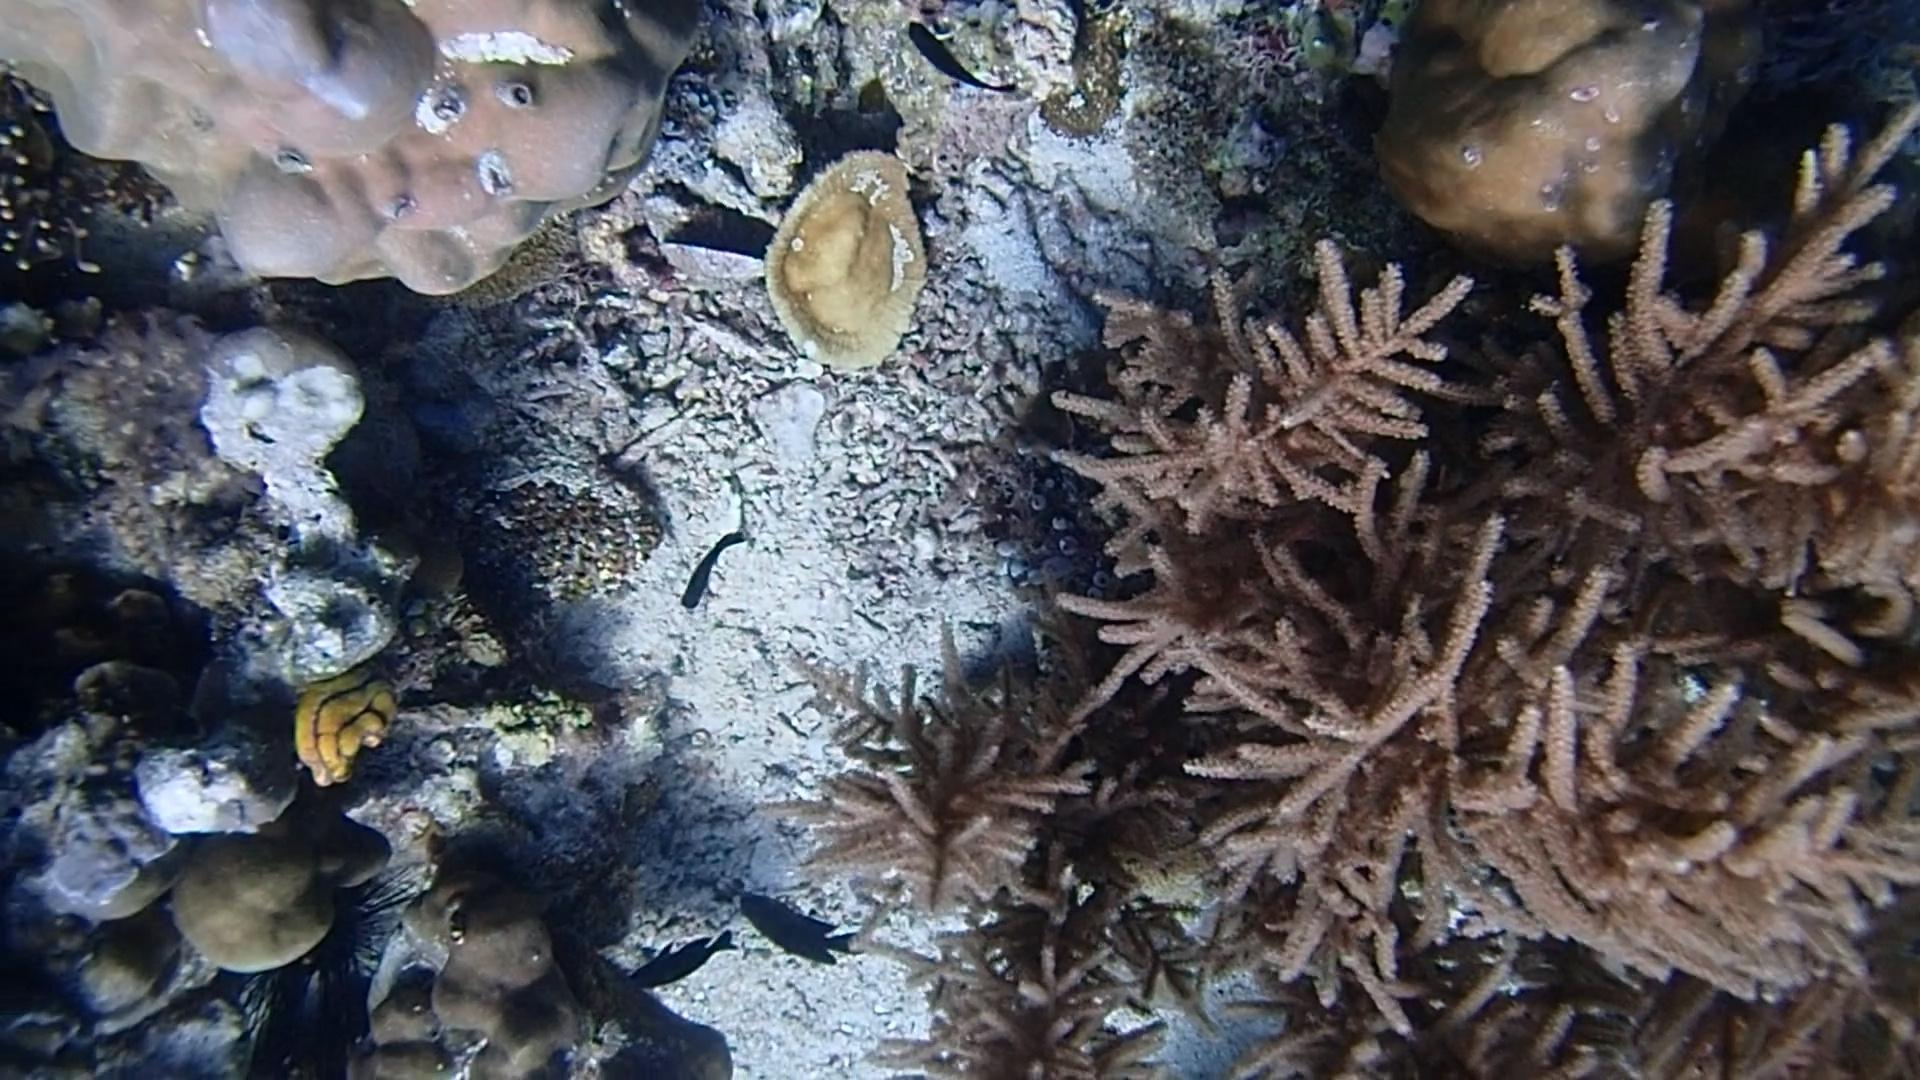Dark Fish: (887, 13, 1029, 111), (738, 881, 865, 982), (625, 923, 732, 1004), (662, 527, 757, 617)
